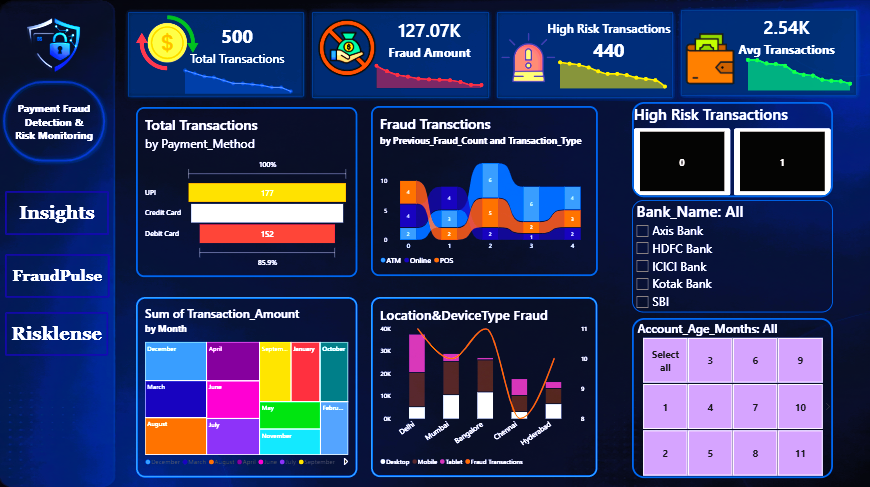

The dashboard page shown, as its layout file describes it:
{"tool":"powerbi","page":{"name":"Insights","canvas":[1920,1080],"ordinal":0},"visuals":[{"type":"shape","box":[2.7,158.2,241.3,252.1],"z":0},{"type":"shape","box":[276.2,18.8,404.9,203.8],"z":1000},{"type":"card","fields":{"Values":["Real-Time Payment Fraud Detection & Risk Monitoring Dashboard.Total Transactions"]},"box":[400,30,252.5,137.5],"z":2000},{"type":"shape","box":[681.1,18.8,407.6,206.5],"z":3000},{"type":"shape","box":[1088.7,18.8,404.9,206.5],"z":4000},{"type":"lineChart","fields":{"Category":["Real-Time Payment Fraud Detection & Risk Monitoring Dashboard.Month"],"Y":["Real-Time Payment Fraud Detection & Risk Monitoring Dashboard.Total Transactions"]},"box":[385.7,119,282.1,105.8],"z":5000},{"type":"image","box":[284.3,22,138.9,156.5],"z":6000},{"type":"shape","box":[1493.6,16.1,404.9,206.5],"z":7000},{"type":"funnel","title":"Total Transactions","fields":{"Category":["Real-Time Payment Fraud Detection & Risk Monitoring Dashboard.Payment_Method"],"Y":["Real-Time Payment Fraud Detection & Risk Monitoring Dashboard.Total Transactions"]},"box":[302.5,237.5,487.5,375],"z":8000},{"type":"ribbonChart","title":"Fraud Transctions ","fields":{"Category":["Real-Time Payment Fraud Detection & Risk Monitoring Dashboard.Previous_Fraud_Count"],"Series":["Real-Time Payment Fraud Detection & Risk Monitoring Dashboard.Transaction_Type"],"Y":["Real-Time Payment Fraud Detection & Risk Monitoring Dashboard.Fraud Transctions"]},"box":[820,236.7,500,375],"z":9000},{"type":"slicer","title":"Bank","fields":{"Values":["Real-Time Payment Fraud Detection & Risk Monitoring Dashboard.Bank_Name"]},"box":[1395,442.5,442.5,247.5],"z":10000},{"type":"advancedSlicerVisual","fields":{"Values":["Real-Time Payment Fraud Detection & Risk Monitoring Dashboard.High Risk Transactions"]},"box":[1395,227.5,442.5,210],"z":11000},{"type":"slicer","fields":{"Values":["Real-Time Payment Fraud Detection & Risk Monitoring Dashboard.Account_Age_Months"]},"box":[1395,702.5,442.5,352.5],"z":12000},{"type":"image","box":[14.3,33.3,214.3,145.2],"z":13000},{"type":"card","fields":{"Values":["Real-Time Payment Fraud Detection & Risk Monitoring Dashboard.Fraud Amount"]},"box":[820.6,0,257.4,174.3],"z":14000},{"type":"image","box":[692.1,33.1,127.8,145.5],"z":15000},{"type":"lineChart","fields":{"Category":["Real-Time Payment Fraud Detection & Risk Monitoring Dashboard.Month"],"Y":["Real-Time Payment Fraud Detection & Risk Monitoring Dashboard.Fraud Amount"]},"box":[806.7,114.6,282.1,99.2],"z":16000},{"type":"card","fields":{"Values":["Real-Time Payment Fraud Detection & Risk Monitoring Dashboard.Avg Transactions"]},"box":[1612.5,15,245,130],"z":17000},{"type":"lineChart","fields":{"Category":["Real-Time Payment Fraud Detection & Risk Monitoring Dashboard.Month"],"Y":["Real-Time Payment Fraud Detection & Risk Monitoring Dashboard.Avg Transactions"]},"box":[1626.6,105.8,273.3,112.4],"z":18000},{"type":"image","box":[1492.5,27.5,150,210],"z":19000},{"type":"card","title":"High Risk Transactions","fields":{"Values":["Sum(Real-Time Payment Fraud Detection & Risk Monitoring Dashboard.High Risk Transactions)"]},"box":[1180,30,330,127.5],"z":20000},{"type":"lineChart","fields":{"Category":["Real-Time Payment Fraud Detection & Risk Monitoring Dashboard.Month"],"Y":["Sum(Real-Time Payment Fraud Detection & Risk Monitoring Dashboard.High Risk Transactions)"]},"box":[1212.2,112.4,279.9,101.4],"z":21000},{"type":"image","box":[1105,37.5,125,182.5],"z":22000},{"type":"lineStackedColumnComboChart","title":"Location&DeviceType Fraud","fields":{"Category":["Real-Time Payment Fraud Detection & Risk Monitoring Dashboard.Location"],"Series":["Real-Time Payment Fraud Detection & Risk Monitoring Dashboard.Device_Type"],"Y":["Real-Time Payment Fraud Detection & Risk Monitoring Dashboard.Fraud Amount"],"Y2":["Real-Time Payment Fraud Detection & Risk Monitoring Dashboard.Fraud Transctions"]},"box":[820.6,657,498.8,396.9],"z":23000},{"type":"treemap","fields":{"Group":["Fraud Data.Month"],"Values":["Sum(Real-Time Payment Fraud Detection & Risk Monitoring Dashboard.Transaction_Amount)"]},"box":[302.5,657.5,487.5,397.5],"z":24000},{"type":"actionButton","box":[13.4,442.5,227.9,96.5],"z":25000},{"type":"actionButton","box":[16.1,713.3,227.9,96.5],"z":26000},{"type":"actionButton","box":[13.4,581.9,230.6,96.5],"z":27000}]}

Visuals, with their boxes in screenshot pixels (x1, y1, x2, y2), scaled from the page's 1920x1080 canvas onto the 870x487 screenshot:
shape: BBox(1, 71, 111, 185)
shape: BBox(125, 8, 309, 100)
card - Real-Time Payment Fraud Detection & Risk Monitoring Dashboard.Total Transactions: BBox(181, 14, 296, 76)
shape: BBox(309, 8, 493, 102)
shape: BBox(493, 8, 677, 102)
lineChart - Real-Time Payment Fraud Detection & Risk Monitoring Dashboard.Month x Real-Time Payment Fraud Detection & Risk Monitoring Dashboard.Total Transactions: BBox(175, 54, 303, 101)
image: BBox(129, 10, 192, 80)
shape: BBox(677, 7, 860, 100)
"Total Transactions" funnel: BBox(137, 107, 358, 276)
"Fraud Transctions " ribbonChart: BBox(372, 107, 598, 276)
"Bank" slicer: BBox(632, 200, 833, 311)
advancedSlicerVisual - Real-Time Payment Fraud Detection & Risk Monitoring Dashboard.High Risk Transactions: BBox(632, 103, 833, 197)
slicer - Real-Time Payment Fraud Detection & Risk Monitoring Dashboard.Account_Age_Months: BBox(632, 317, 833, 476)
image: BBox(6, 15, 104, 80)
card - Real-Time Payment Fraud Detection & Risk Monitoring Dashboard.Fraud Amount: BBox(372, 0, 488, 79)
image: BBox(314, 15, 372, 81)
lineChart - Real-Time Payment Fraud Detection & Risk Monitoring Dashboard.Month x Real-Time Payment Fraud Detection & Risk Monitoring Dashboard.Fraud Amount: BBox(366, 52, 493, 96)
card - Real-Time Payment Fraud Detection & Risk Monitoring Dashboard.Avg Transactions: BBox(731, 7, 842, 65)
lineChart - Real-Time Payment Fraud Detection & Risk Monitoring Dashboard.Month x Real-Time Payment Fraud Detection & Risk Monitoring Dashboard.Avg Transactions: BBox(737, 48, 861, 98)
image: BBox(676, 12, 744, 107)
"High Risk Transactions" card: BBox(535, 14, 684, 71)
lineChart - Real-Time Payment Fraud Detection & Risk Monitoring Dashboard.Month x Sum(Real-Time Payment Fraud Detection & Risk Monitoring Dashboard.High Risk Transactions): BBox(549, 51, 676, 96)
image: BBox(501, 17, 557, 99)
"Location&DeviceType Fraud" lineStackedColumnComboChart: BBox(372, 296, 598, 475)
treemap - Fraud Data.Month x Sum(Real-Time Payment Fraud Detection & Risk Monitoring Dashboard.Transaction_Amount): BBox(137, 296, 358, 476)
actionButton: BBox(6, 200, 109, 243)
actionButton: BBox(7, 322, 111, 365)
actionButton: BBox(6, 262, 111, 306)
